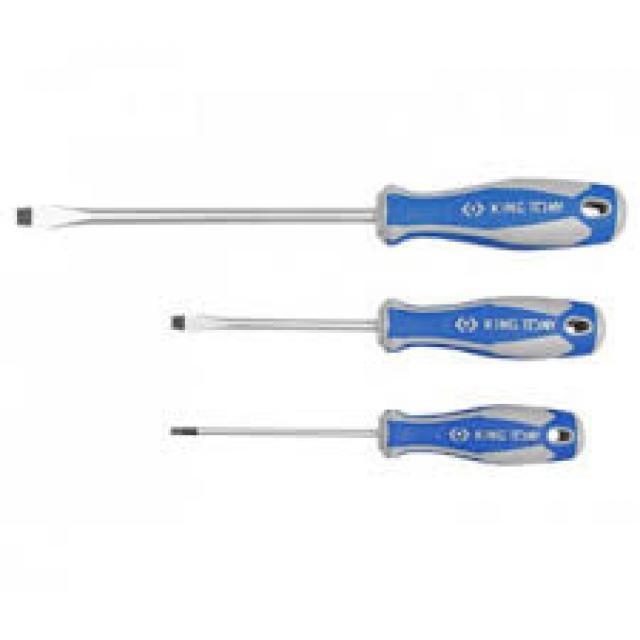screwdriver: (6, 175, 632, 252), (165, 292, 606, 366), (158, 398, 590, 469)
